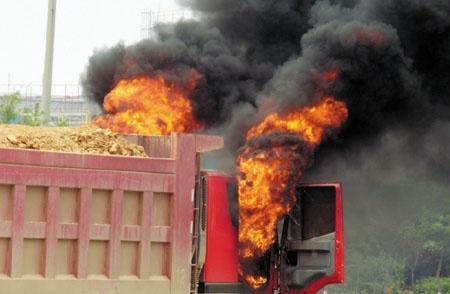fire: (235, 90, 346, 270), (92, 72, 204, 135)
